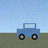vehicle: (17, 23, 40, 40)
